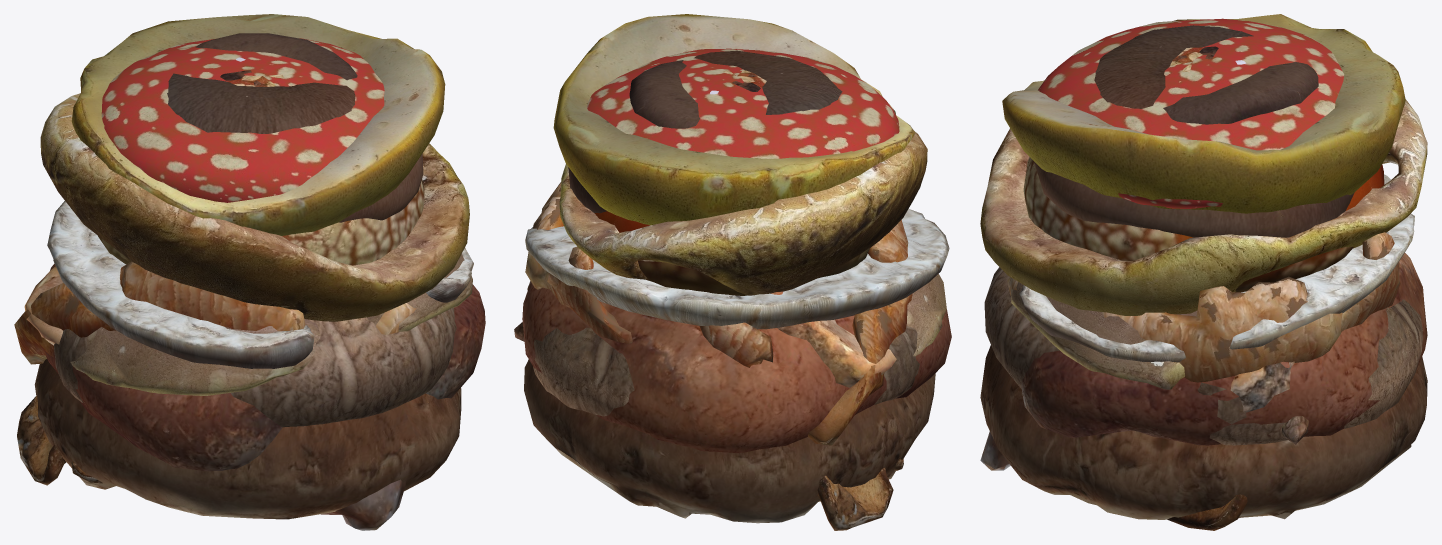
File: mushrooms_1k.gltf
3 views of the same model, side by side, from view 1: azimuth 30°, elevation 25°; view 2: azimuth 150°, elevation 25°; view 3: azimuth 270°, elevation 25° (orthographic). The views are drawn at different scales.
Visible parts, largest first — view 1: mushroom_07_mushroom_07_0__LOD0, mushroom_09_mushroom_09_0__LOD0, mushroom_01_mushroom_01_0__LOD0, mushroom_02_mushroom_02_0__LOD0, mushroom_16_mushroom_16_0__LOD0, mushroom_13_mushroom_13_0__LOD0, mushroom_11_mushroom_11_0__LOD0, mushroom_15_mushroom_15_0__LOD0, mushroom_10_mushroom_10_0__LOD0, mushroom_06_mushroom_06_0__LOD0, mushroom_08_mushroom_08_0__LOD0, mushroom_14_mushroom_14_0__LOD0 (+2 smaller); view 2: mushroom_01_mushroom_01_0__LOD0, mushroom_16_mushroom_16_0__LOD0, mushroom_09_mushroom_09_0__LOD0, mushroom_07_mushroom_07_0__LOD0, mushroom_02_mushroom_02_0__LOD0, mushroom_11_mushroom_11_0__LOD0, mushroom_10_mushroom_10_0__LOD0, mushroom_13_mushroom_13_0__LOD0, mushroom_15_mushroom_15_0__LOD0, mushroom_03_mushroom_03_0__LOD0, mushroom_14_mushroom_14_0__LOD0, mushroom_05_mushroom_05_0__LOD0 (+2 smaller); view 3: mushroom_01_mushroom_01_0__LOD0, mushroom_09_mushroom_09_0__LOD0, mushroom_07_mushroom_07_0__LOD0, mushroom_16_mushroom_16_0__LOD0, mushroom_02_mushroom_02_0__LOD0, mushroom_15_mushroom_15_0__LOD0, mushroom_10_mushroom_10_0__LOD0, mushroom_13_mushroom_13_0__LOD0, mushroom_11_mushroom_11_0__LOD0, mushroom_08_mushroom_08_0__LOD0, mushroom_14_mushroom_14_0__LOD0, mushroom_06_mushroom_06_0__LOD0 (+2 smaller).
Boxes of the visible parts, x1=… form: mushroom_07_mushroom_07_0__LOD0: x1=40, y1=93, x2=469, y2=321; mushroom_09_mushroom_09_0__LOD0: x1=34, y1=359, x2=461, y2=519; mushroom_01_mushroom_01_0__LOD0: x1=71, y1=14, x2=445, y2=235; mushroom_02_mushroom_02_0__LOD0: x1=101, y1=38, x2=384, y2=202; mushroom_16_mushroom_16_0__LOD0: x1=45, y1=263, x2=485, y2=530; mushroom_13_mushroom_13_0__LOD0: x1=54, y1=307, x2=456, y2=427; mushroom_11_mushroom_11_0__LOD0: x1=47, y1=201, x2=473, y2=368; mushroom_15_mushroom_15_0__LOD0: x1=167, y1=73, x2=423, y2=222; mushroom_10_mushroom_10_0__LOD0: x1=14, y1=261, x2=416, y2=364; mushroom_06_mushroom_06_0__LOD0: x1=70, y1=254, x2=472, y2=395; mushroom_08_mushroom_08_0__LOD0: x1=98, y1=74, x2=424, y2=265; mushroom_14_mushroom_14_0__LOD0: x1=195, y1=33, x2=357, y2=80; mushroom_01_mushroom_01_0__LOD0: x1=553, y1=14, x2=914, y2=225; mushroom_16_mushroom_16_0__LOD0: x1=522, y1=282, x2=951, y2=452; mushroom_09_mushroom_09_0__LOD0: x1=524, y1=359, x2=935, y2=523; mushroom_07_mushroom_07_0__LOD0: x1=559, y1=131, x2=927, y2=295; mushroom_02_mushroom_02_0__LOD0: x1=587, y1=48, x2=899, y2=158; mushroom_11_mushroom_11_0__LOD0: x1=525, y1=209, x2=949, y2=329; mushroom_10_mushroom_10_0__LOD0: x1=525, y1=182, x2=912, y2=445; mushroom_13_mushroom_13_0__LOD0: x1=533, y1=326, x2=919, y2=416; mushroom_15_mushroom_15_0__LOD0: x1=568, y1=50, x2=842, y2=213; mushroom_03_mushroom_03_0__LOD0: x1=514, y1=281, x2=896, y2=387; mushroom_14_mushroom_14_0__LOD0: x1=629, y1=60, x2=700, y2=128; mushroom_05_mushroom_05_0__LOD0: x1=817, y1=459, x2=903, y2=530; mushroom_01_mushroom_01_0__LOD0: x1=1002, y1=14, x2=1405, y2=213; mushroom_09_mushroom_09_0__LOD0: x1=980, y1=345, x2=1427, y2=519; mushroom_07_mushroom_07_0__LOD0: x1=980, y1=99, x2=1427, y2=315; mushroom_16_mushroom_16_0__LOD0: x1=980, y1=253, x2=1427, y2=470; mushroom_02_mushroom_02_0__LOD0: x1=1038, y1=18, x2=1344, y2=208; mushroom_15_mushroom_15_0__LOD0: x1=1034, y1=25, x2=1354, y2=237; mushroom_10_mushroom_10_0__LOD0: x1=1007, y1=232, x2=1400, y2=382; mushroom_13_mushroom_13_0__LOD0: x1=984, y1=267, x2=1422, y2=445; mushroom_11_mushroom_11_0__LOD0: x1=1019, y1=174, x2=1414, y2=362; mushroom_08_mushroom_08_0__LOD0: x1=1023, y1=47, x2=1384, y2=292; mushroom_14_mushroom_14_0__LOD0: x1=1163, y1=62, x2=1318, y2=124; mushroom_06_mushroom_06_0__LOD0: x1=1010, y1=282, x2=1258, y2=389.
Bounding box in the file's own units: 0.12 × 0.12 × 0.12.
16 materials, 16 textured.
